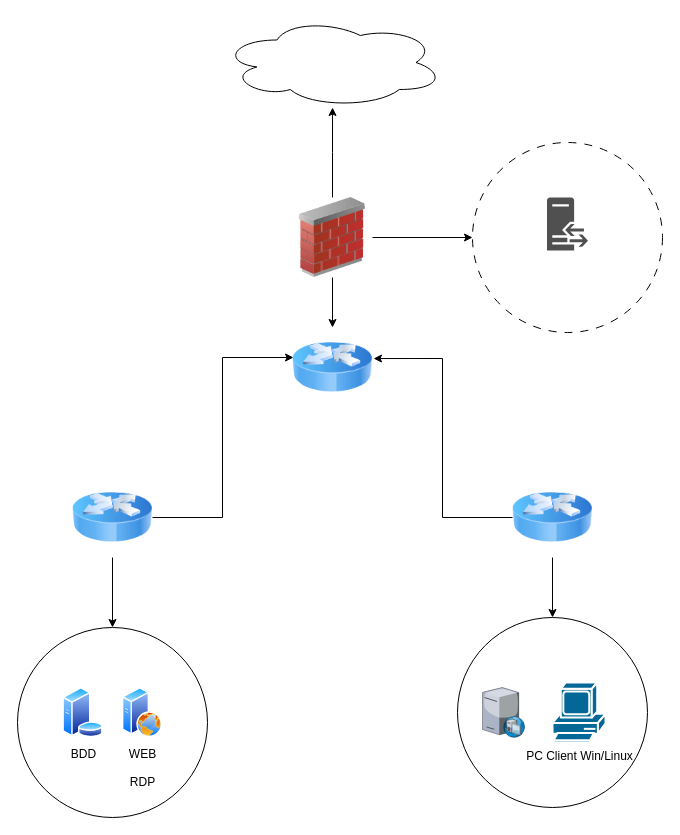
The diagram is 680 pixels wide and 835 high, and some of its shapes have lost their labels. Here are the shapes that lost their labels. From the top down, the centre of each, then its label:
the point at 567,223: RP Web + WAF
the point at 503,712: DHCP
